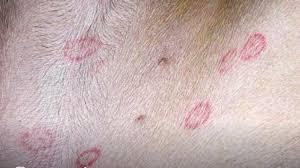Tick: (213, 26, 271, 84), (59, 29, 105, 65), (17, 127, 58, 156), (184, 96, 217, 132), (76, 147, 101, 167)
